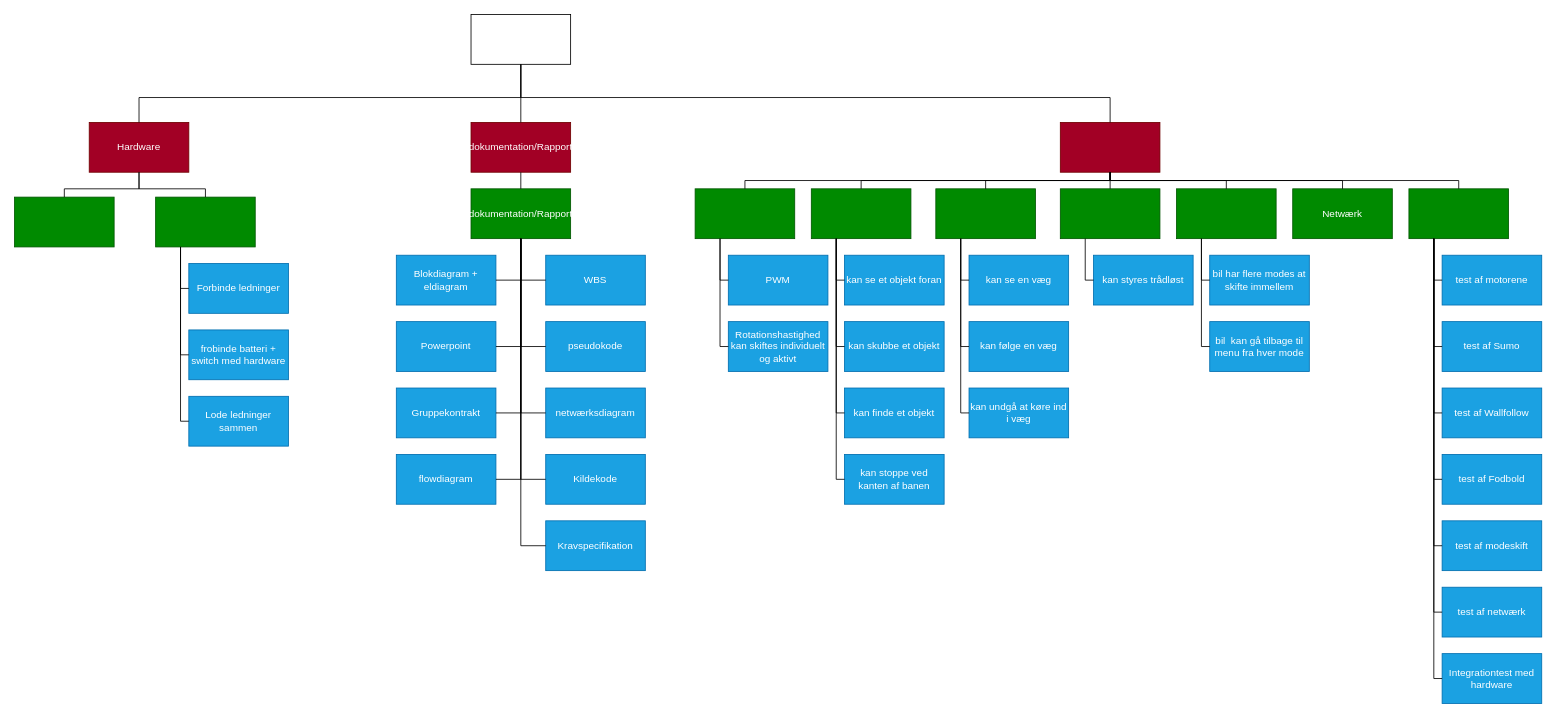
Some shapes in this 1556 by 718 pixel diagram are drawn without their labels. Each missing label, with the centre of its shape:
"Fodbold program færdig" goes at (1109,213).
"færdigprogrammere motorene" goes at (744,213).
"installere hardware" goes at (205,221).
"Integration" goes at (1458,213).
"Modeskifte program færdig" goes at (1226,213).
"montere mekanik" goes at (64,221).
"Projekt" goes at (520,39).
"software" goes at (1109,147).
"sumo program færdig" goes at (860,213).
"Wallfollow program færdig" goes at (985,213).
